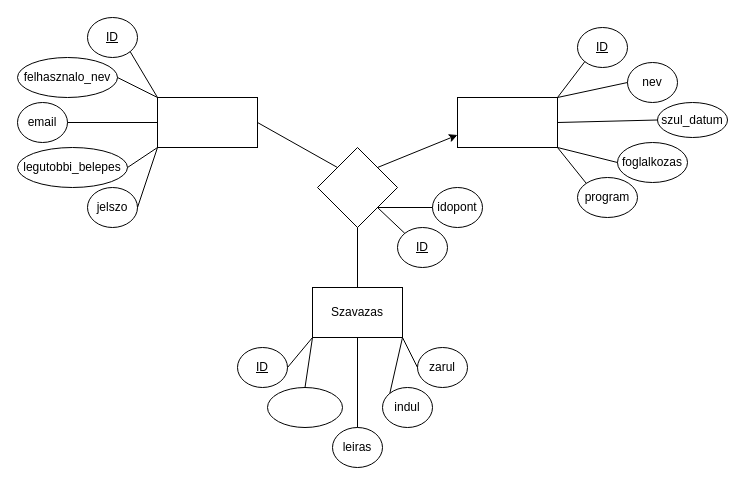
Some shapes in this 745 by 485 pixel diagram are drawn without their labels. Here are the shapes that lost their labels. From the top down, the centre of each, then its label:
the point at 207,122: Felhasznalo
the point at 507,122: Jelolt
the point at 357,187: Szavazatok
the point at 304,407: megnevezes
